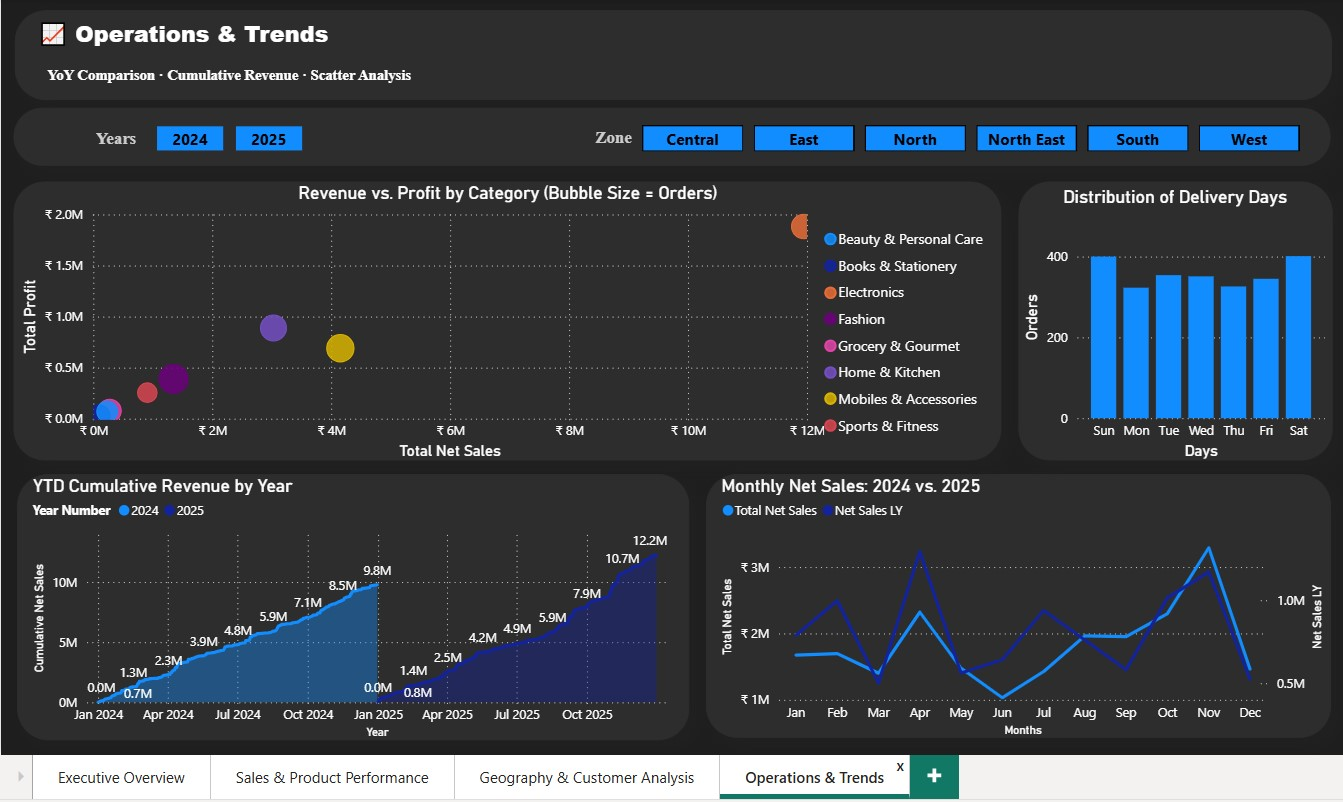

This screenshot's page, from the dashboard's own definition file:
{"tool":"powerbi","page":{"name":"Operations & Trends","canvas":[1280,720],"ordinal":3},"visuals":[{"type":"shape","box":[13.4,11,1254.6,85.3],"z":0},{"type":"areaChart","title":"YTD Cumulative Revenue by Year","fields":{"Y":["Time Intelligence Measures.Cumulative Net Sales"],"Category":["Date Table.Date.Variation.Date Hierarchy.Year","Date Table.Date.Variation.Date Hierarchy.Quarter","Date Table.Date.Variation.Date Hierarchy.Month","Date Table.Date.Variation.Date Hierarchy.Day"],"Series":["Date Table.Year"]},"box":[15.5,451.9,639.6,253.5],"z":1000},{"type":"shape","box":[12.2,103.6,1254.6,54.9],"z":2000},{"type":"textbox","box":[36.3,18.2,671.6,35.1],"z":3000},{"type":"textbox","box":[44.2,62.6,364.6,20.9],"z":4000},{"type":"lineChart","title":"Monthly Net Sales: 2024 vs. 2025","fields":{"Category":["Date Table.Month Name"],"Y":["Core KPI Measures.Total Net Sales"],"Y2":["Time Intelligence Measures.Net Sales LY"]},"box":[671.9,451.9,595.4,251.1],"z":5000},{"type":"columnChart","title":"Distribution of Delivery Days","fields":{"Y":["CountNonNull(ecommerce_sales_clean_csv.order_id)"],"Category":["Date Table.Day of Week"]},"box":[969.6,173.4,298.9,265.4],"z":6000},{"type":"scatterChart","title":"Revenue vs. Profit by Category (Bubble Size = Orders)","fields":{"X":["Core KPI Measures.Total Net Sales"],"Y":["Core KPI Measures.Total Profit"],"Series":["ecommerce_sales_clean_csv.category"],"Size":["Core KPI Measures.Total Orders"]},"box":[11.9,173.8,940.5,265.5],"z":7000},{"type":"textbox","box":[90.4,124.2,57.3,20.7],"z":8000},{"type":"advancedSlicerVisual","fields":{"Values":["Date Table.Year"]},"box":[147.7,119.7,140.4,25.4],"z":9000},{"type":"textbox","box":[561.8,122.1,57.3,20.7],"z":10000},{"type":"advancedSlicerVisual","fields":{"Values":["ecommerce_sales_clean_csv.zone"]},"box":[611.2,119.7,630.4,25.4],"z":11000}]}

Visuals, with their boxes on the page's 1280x720 design canvas (x1, y1, x2, y2). These are canvas units, not pixel positions in the 1343x802 screenshot, which may show the page scaled, cropped or inside an application window:
shape: {"x1": 13, "y1": 11, "x2": 1268, "y2": 96}
"YTD Cumulative Revenue by Year" areaChart: {"x1": 16, "y1": 452, "x2": 655, "y2": 705}
shape: {"x1": 12, "y1": 104, "x2": 1267, "y2": 158}
textbox: {"x1": 36, "y1": 18, "x2": 708, "y2": 53}
textbox: {"x1": 44, "y1": 63, "x2": 409, "y2": 84}
"Monthly Net Sales: 2024 vs. 2025" lineChart: {"x1": 672, "y1": 452, "x2": 1267, "y2": 703}
"Distribution of Delivery Days" columnChart: {"x1": 970, "y1": 173, "x2": 1268, "y2": 439}
"Revenue vs. Profit by Category (Bubble Size = Orders)" scatterChart: {"x1": 12, "y1": 174, "x2": 952, "y2": 439}
textbox: {"x1": 90, "y1": 124, "x2": 148, "y2": 145}
advancedSlicerVisual - Date Table.Year: {"x1": 148, "y1": 120, "x2": 288, "y2": 145}
textbox: {"x1": 562, "y1": 122, "x2": 619, "y2": 143}
advancedSlicerVisual - ecommerce_sales_clean_csv.zone: {"x1": 611, "y1": 120, "x2": 1242, "y2": 145}
